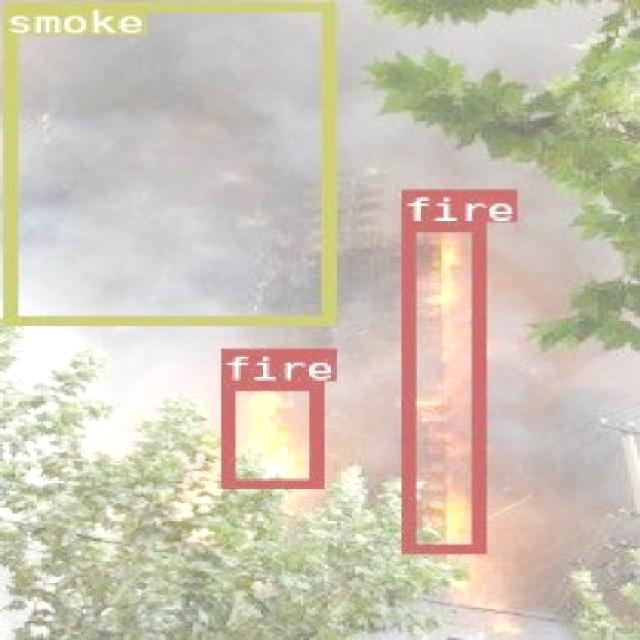fire: (399, 220, 484, 552), (218, 380, 322, 486)
smoke: (2, 1, 332, 324)
